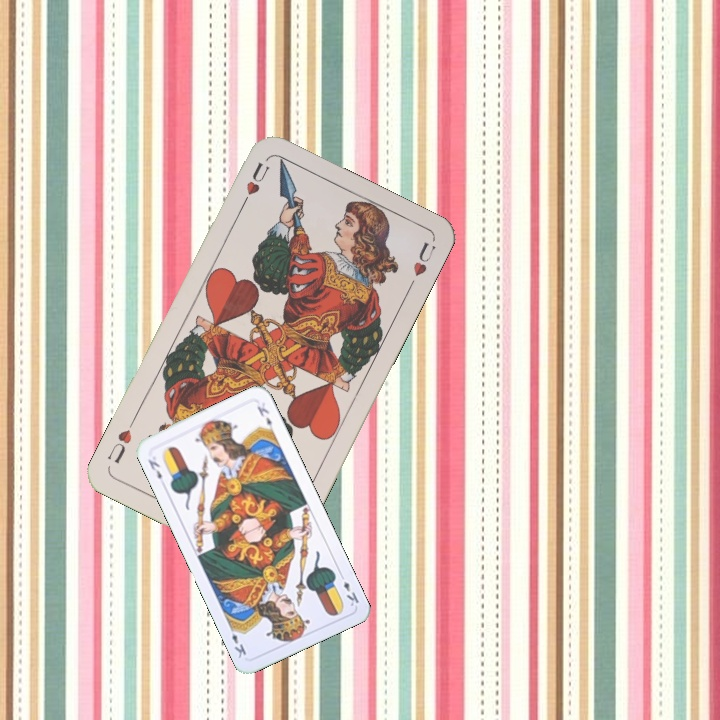EK: (335, 569, 361, 609), (144, 455, 164, 482)
HU: (236, 158, 272, 211)
